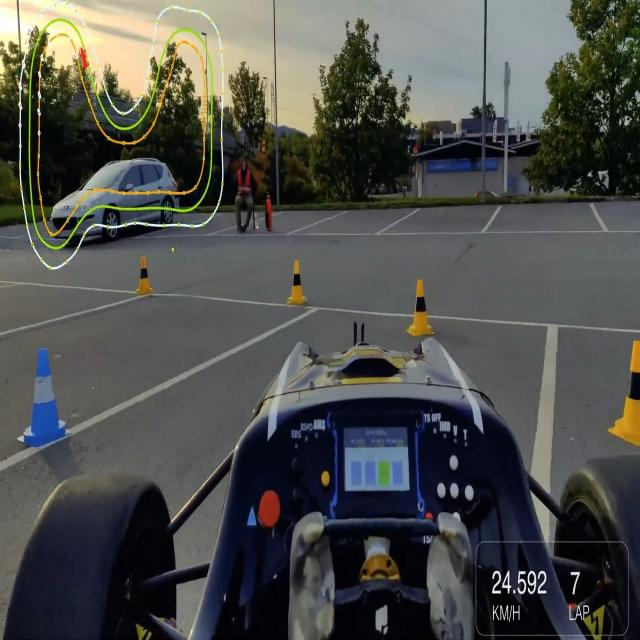blue_cone: (20, 346, 66, 451)
yellow_cone: (611, 338, 640, 451), (408, 280, 433, 343), (286, 258, 309, 308), (134, 257, 154, 299)
